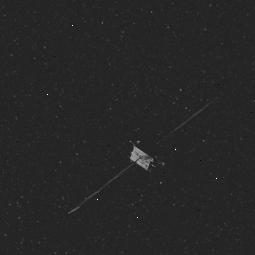smart_1: (106, 113, 190, 198)
